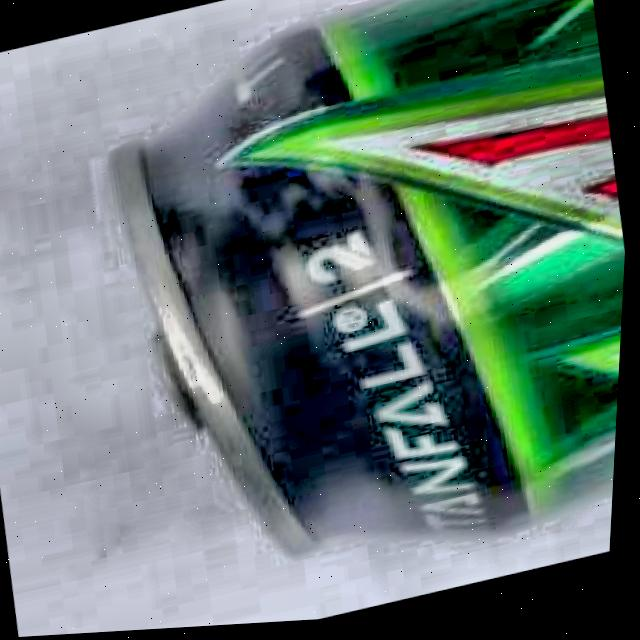metal: (109, 0, 628, 561)
